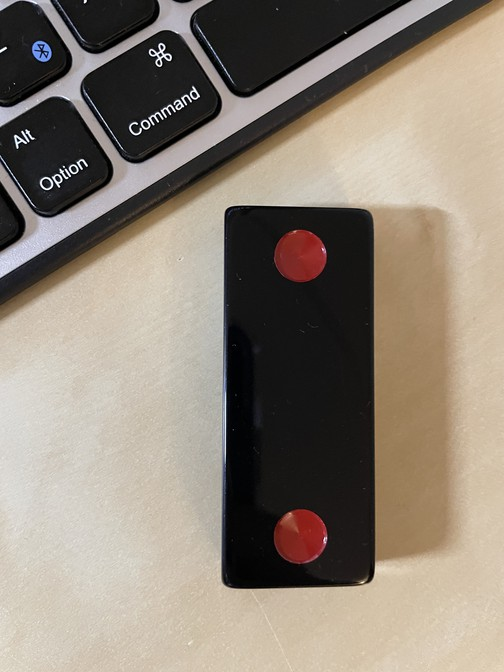earth: (222, 205, 376, 589)
